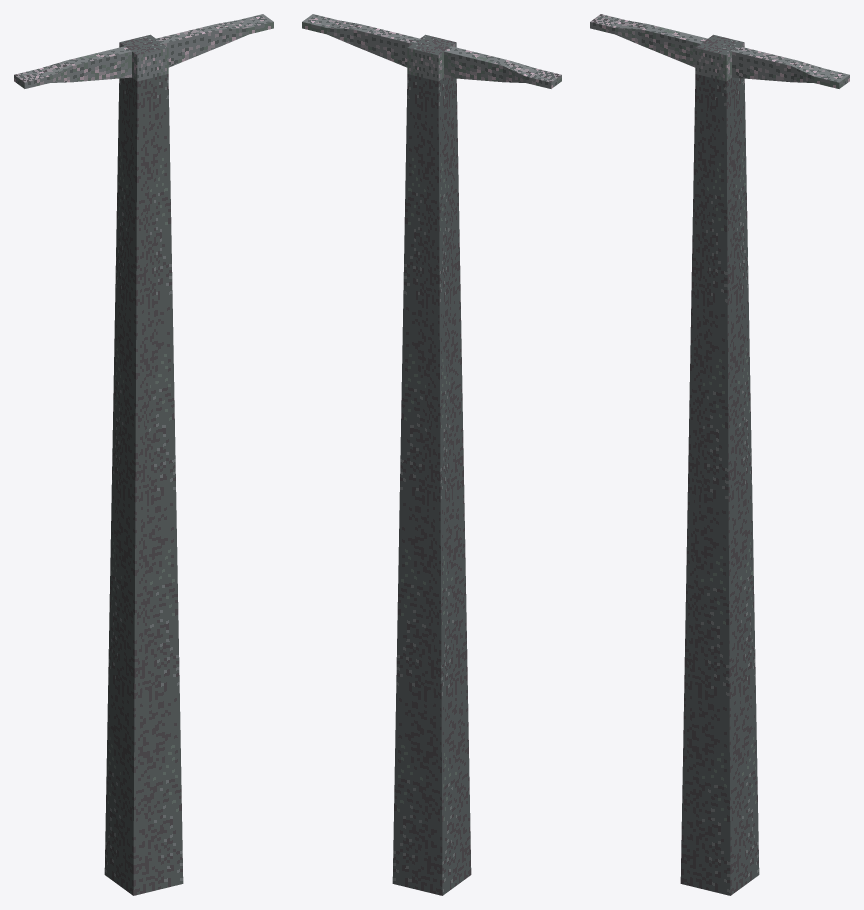
The model's file is Streetlight.fbx.
The picture shows the model from 3 angles, left to right: view 1: azimuth 30°, elevation 25°; view 2: azimuth 150°, elevation 25°; view 3: azimuth 330°, elevation 25°; orthographic projection.
Parts seen in each view (by area): view 1: Cube.173; view 2: Cube.173; view 3: Cube.173.
Boxes of the visible parts, x1=… form: Cube.173: x1=14, y1=14, x2=273, y2=895; Cube.173: x1=302, y1=14, x2=561, y2=895; Cube.173: x1=590, y1=14, x2=849, y2=895.
Bounding box in the file's own units: 500 × 1600 × 100.
Materials: 1 (1 with a texture image).
